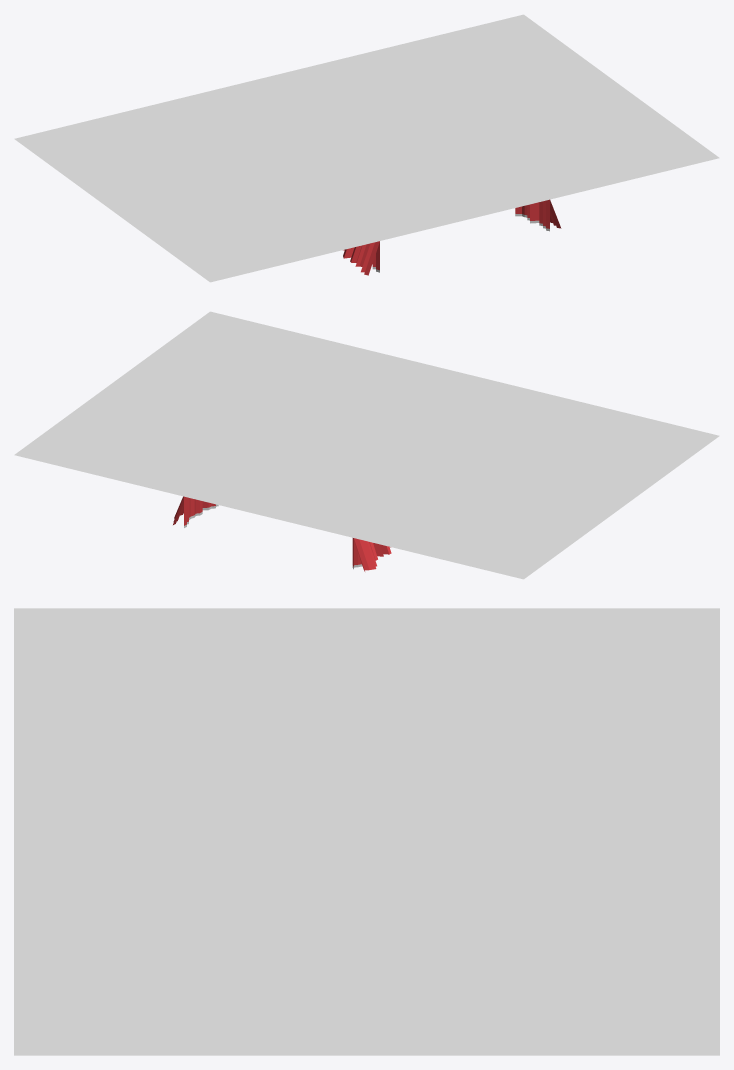
File: icpupt2 1.fbx
3 renders of one model, top to bottom at view 1: azimuth 30°, elevation 25°; view 2: azimuth 150°, elevation 25°; view 3: azimuth 270°, elevation 25°, orthographic. The views are drawn at different scales.
Parts seen in each view (by area): view 1: L, R, Base; view 2: R, L, Base; view 3: R, L, Base.
Part boxes in pixels (x1,y1,x2,y2): L: (354, 14, 719, 231); R: (14, 97, 379, 282); Base: (185, 56, 561, 275); R: (352, 394, 719, 579); L: (14, 311, 380, 527); Base: (173, 353, 549, 571); R: (14, 608, 719, 768); L: (14, 895, 719, 1055); Base: (14, 751, 719, 914).
Bounding box in the file's own units: 8400 × 500 × 5600.
